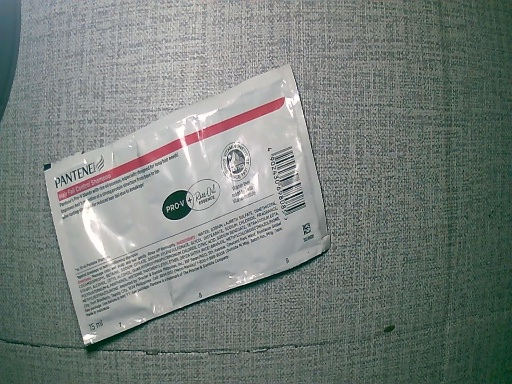plastic: (44, 64, 328, 346)
